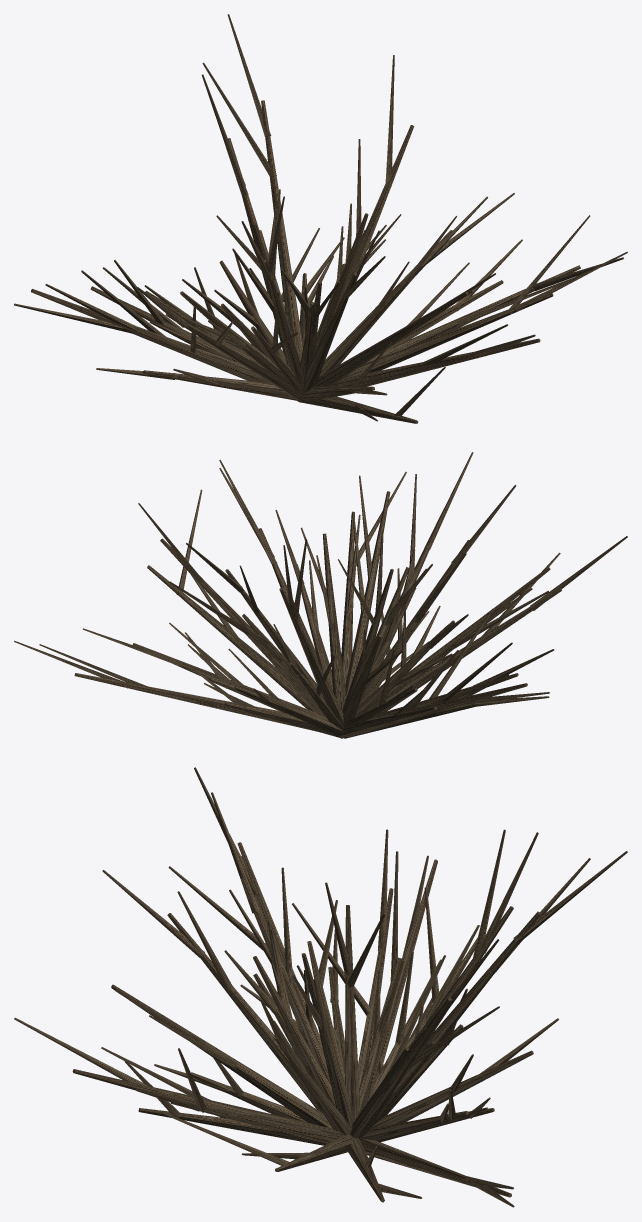
The model's file is dry-bush-v01-photo.glb.
3 views of the same model, one above another, from view 1: azimuth 30°, elevation 25°; view 2: azimuth 150°, elevation 25°; view 3: azimuth 270°, elevation 25° (orthographic). The views are drawn at different scales.
Visible parts, largest first — view 1: dry-bush; view 2: dry-bush; view 3: dry-bush.
Boxes of the visible parts, bbox=[...] form: dry-bush: bbox=[14, 14, 627, 423]; dry-bush: bbox=[14, 452, 627, 738]; dry-bush: bbox=[14, 767, 627, 1207].
Size of the model in its own units: 2.55 by 1.3 by 2.23.
1 material, 1 textured.
